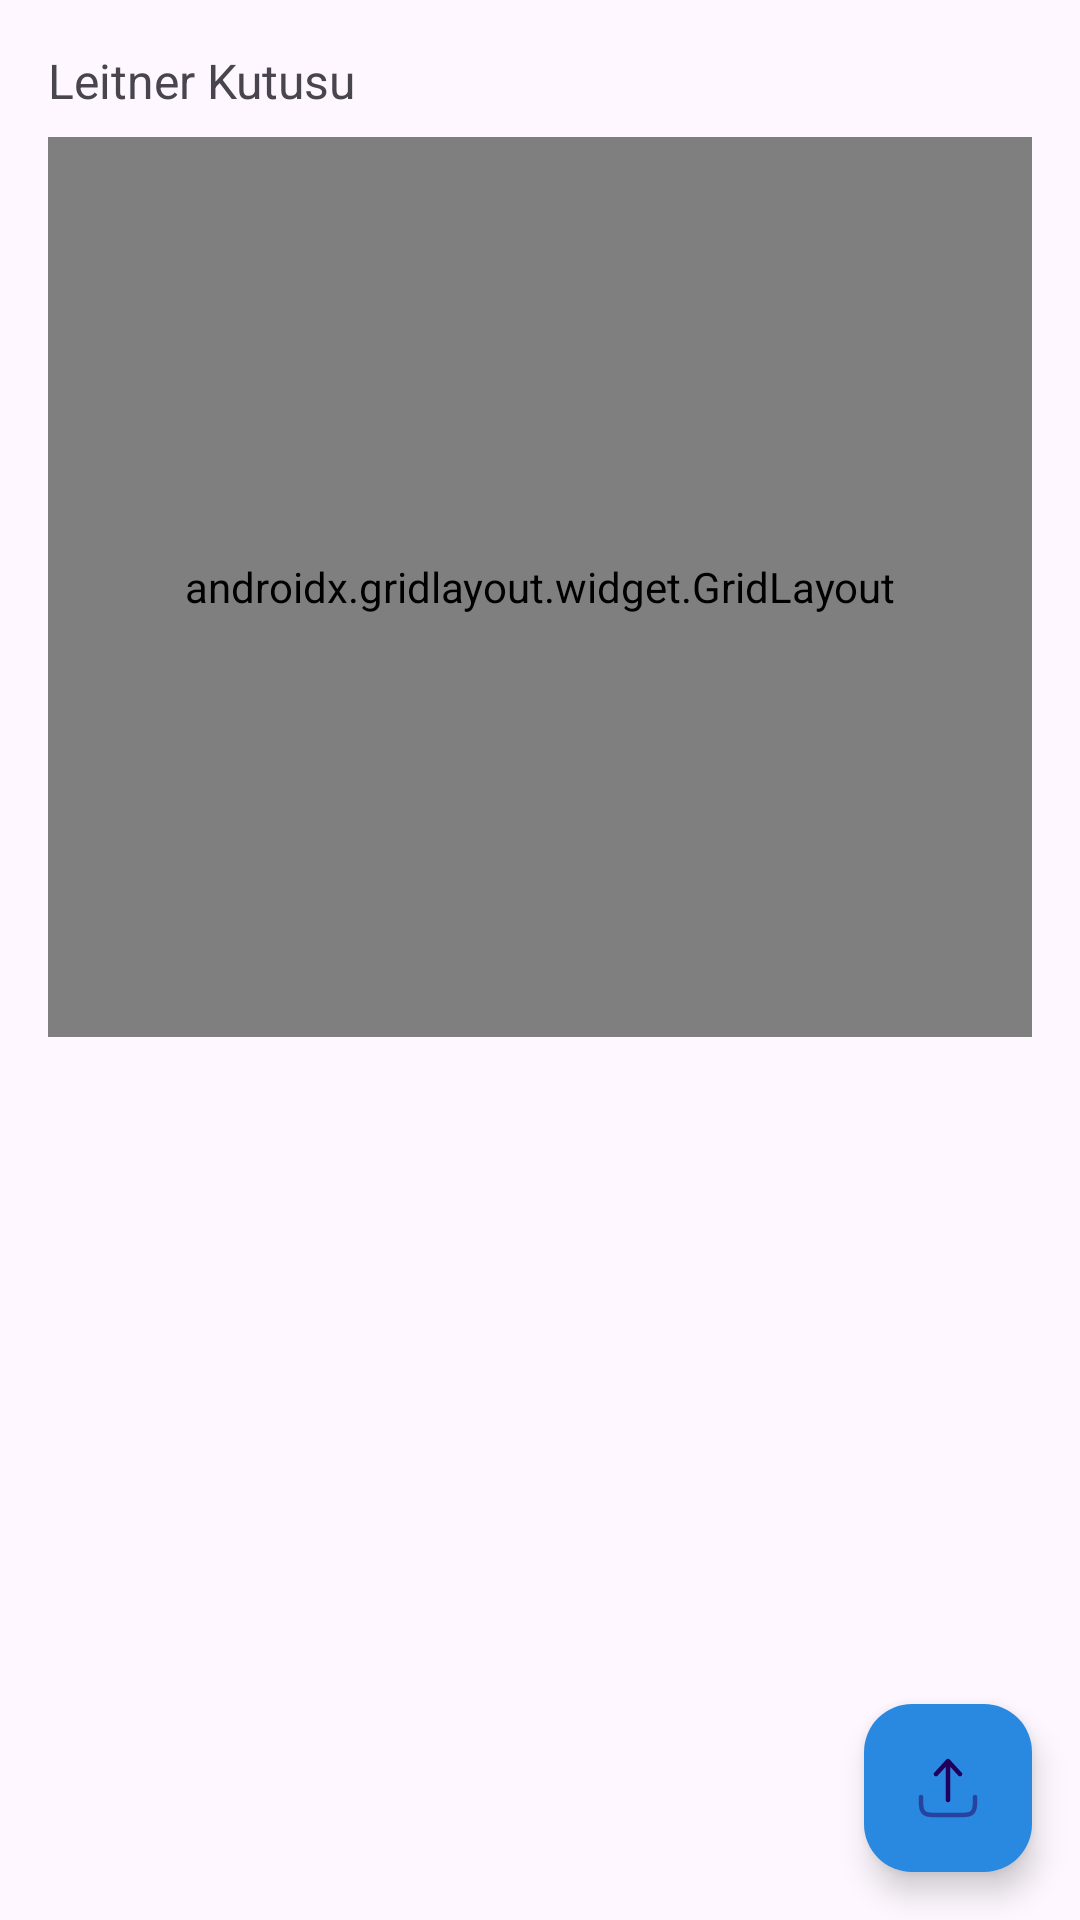

Named icons in this screenshot (1080x1920) and their centers, [x,y]:
upload: [948,1788]
